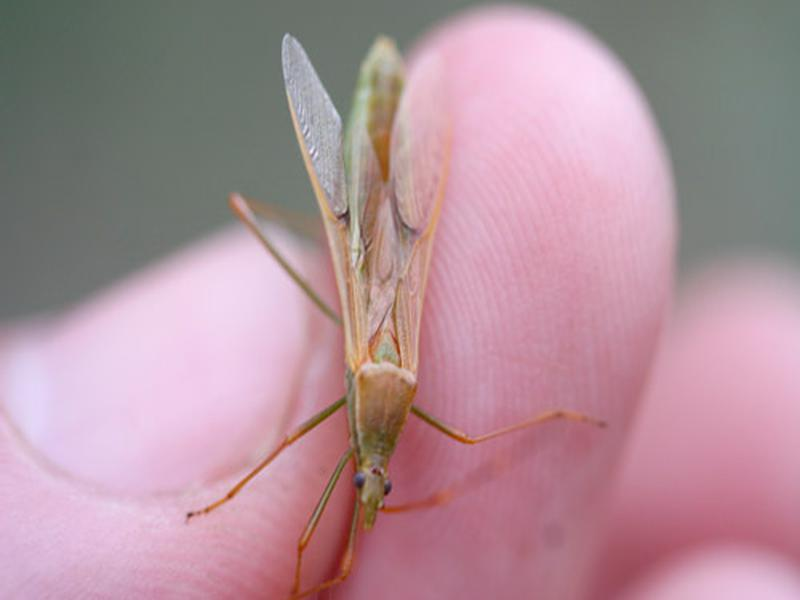Rice_earhead_bug: (259, 35, 476, 527)
